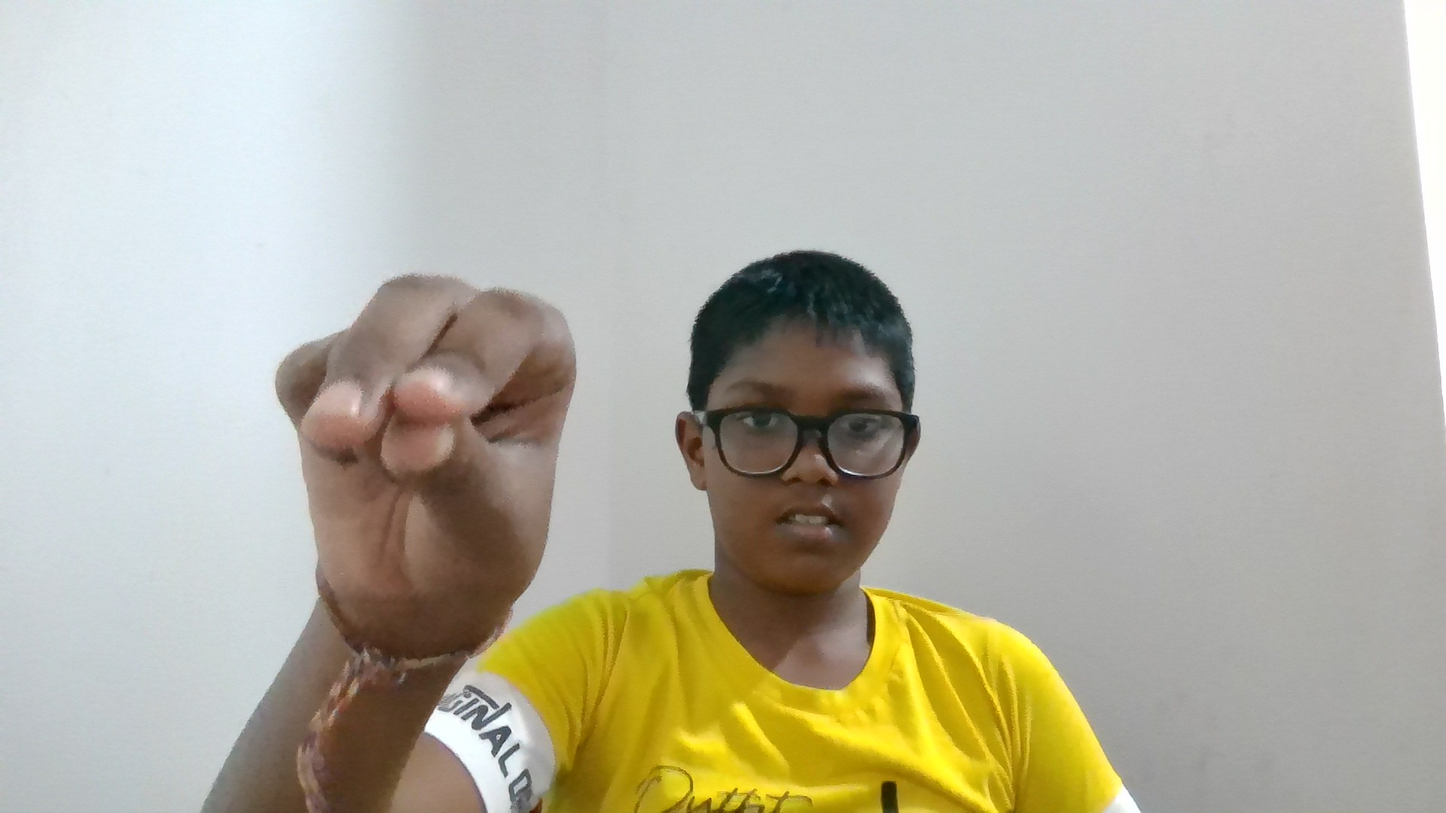No: (134, 240, 625, 665)
